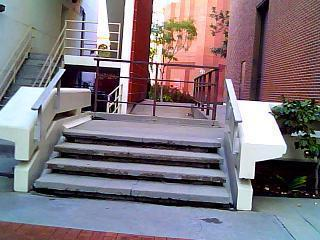Escaleras: (43, 130, 228, 201), (0, 48, 62, 114)
